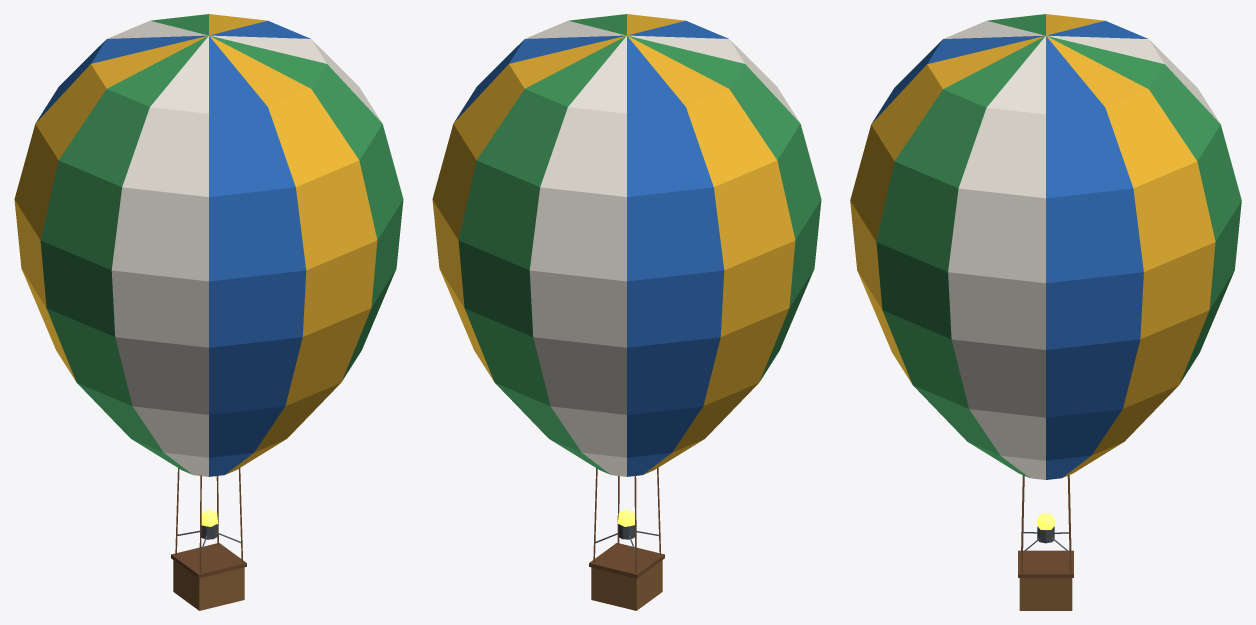
The model's file is ballong_2.glb.
The picture shows the model from 3 angles, left to right: view 1: azimuth 30°, elevation 25°; view 2: azimuth 150°, elevation 25°; view 3: azimuth 270°, elevation 25°; orthographic projection.
Visible parts, largest first — view 1: ballong_2; view 2: ballong_2; view 3: ballong_2.
Part boxes in pixels (x1,y1,x2,y2): ballong_2: (14, 14, 403, 610); ballong_2: (432, 14, 821, 610); ballong_2: (850, 14, 1241, 610).
Bounding box in the file's own units: 11.2 × 17.8 × 11.2.
